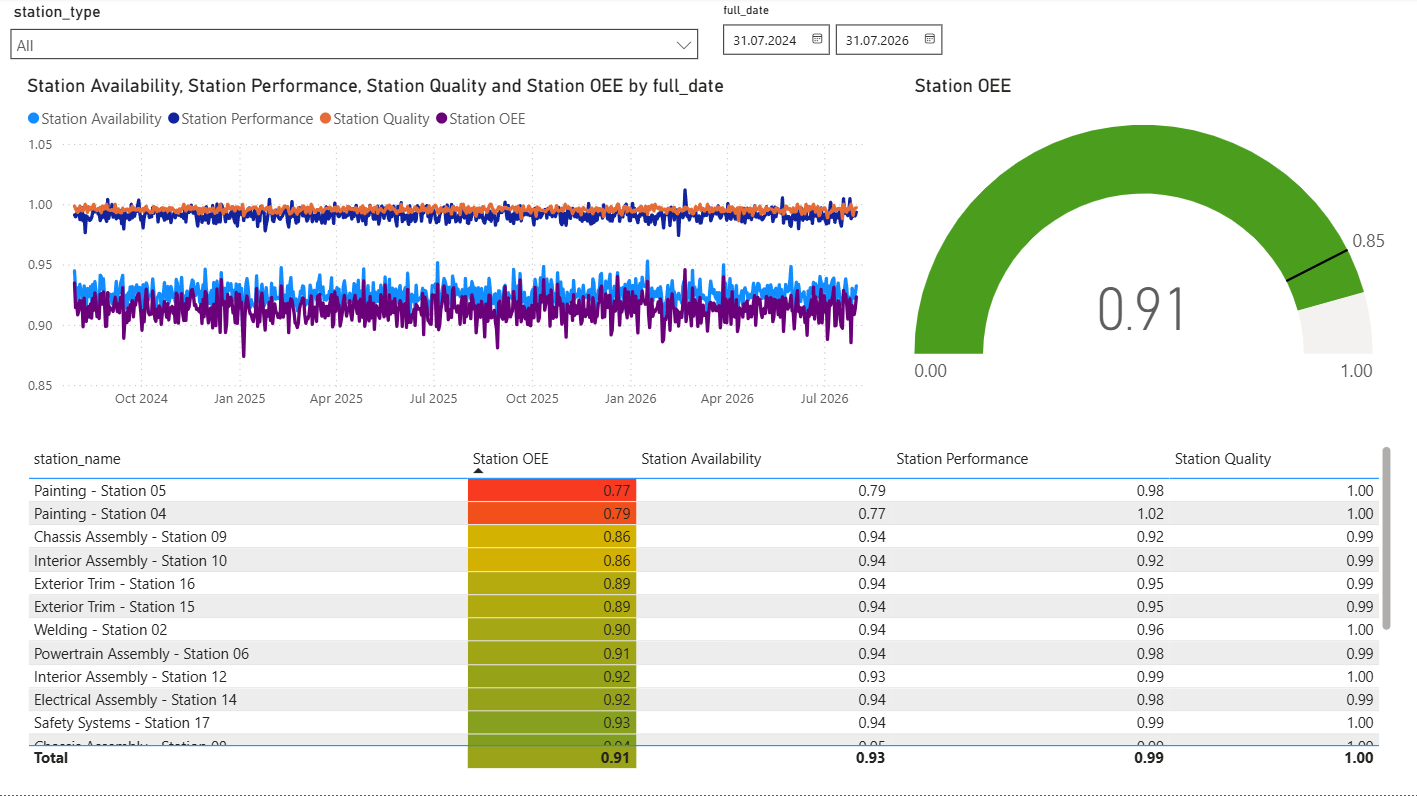

The dashboard page shown, as its layout file describes it:
{"tool":"powerbi","page":{"name":"Page 5","canvas":[1280,720],"ordinal":4},"visuals":[{"type":"slicer","fields":{"Values":["oee_daily.station_type"]},"box":[0,0,640,60],"z":0},{"type":"slicer","fields":{"Values":["dim_date.full_date"]},"box":[640,0,640,60],"z":1000},{"type":"lineChart","fields":{"Category":["dim_date.full_date"],"Y":["_Measures.Station Availability","_Measures.Station Performance","_Measures.Station Quality","_Measures.Station OEE"]},"box":[20,70,780,310],"z":2000},{"type":"gauge","fields":{"Y":["_Measures.Station OEE"]},"box":[820,70,440,310],"z":3000},{"type":"tableEx","fields":{"Values":["oee_daily.station_name","_Measures.Station OEE","_Measures.Station Availability","_Measures.Station Performance","_Measures.Station Quality"]},"box":[20,400,1240,300],"z":4000}]}

Visuals, with their boxes in screenshot pixels (x1, y1, x2, y2), scaled from the page's 1280x720 canvas onto the 1417x796 screenshot:
slicer - oee_daily.station_type: x1=0 y1=0 x2=708 y2=66
slicer - dim_date.full_date: x1=708 y1=0 x2=1416 y2=66
lineChart - dim_date.full_date x _Measures.Station Availability: x1=22 y1=77 x2=886 y2=420
gauge - _Measures.Station OEE: x1=908 y1=77 x2=1395 y2=420
tableEx - oee_daily.station_name x _Measures.Station OEE: x1=22 y1=442 x2=1395 y2=774
